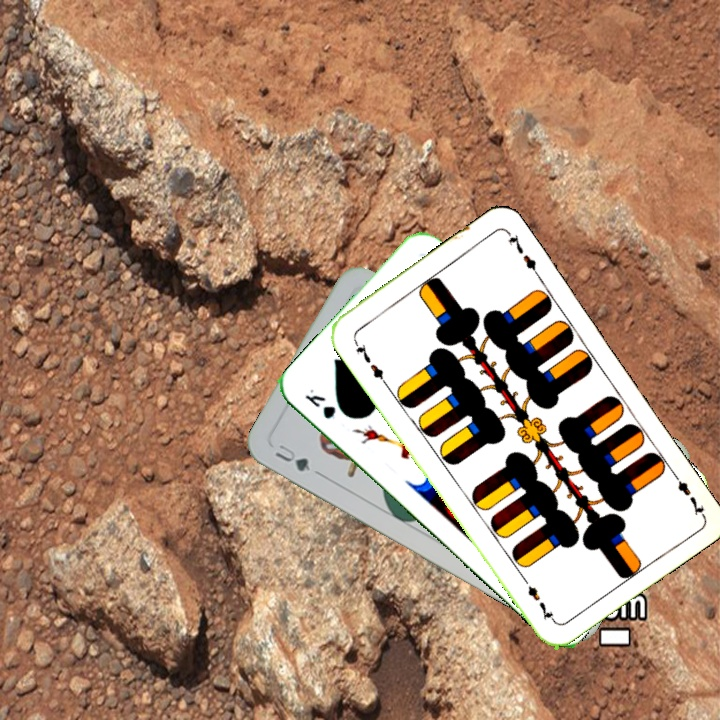E7: (349, 335, 389, 387), (667, 466, 707, 518)
GK: (300, 384, 339, 422)
GU: (271, 440, 315, 475)
